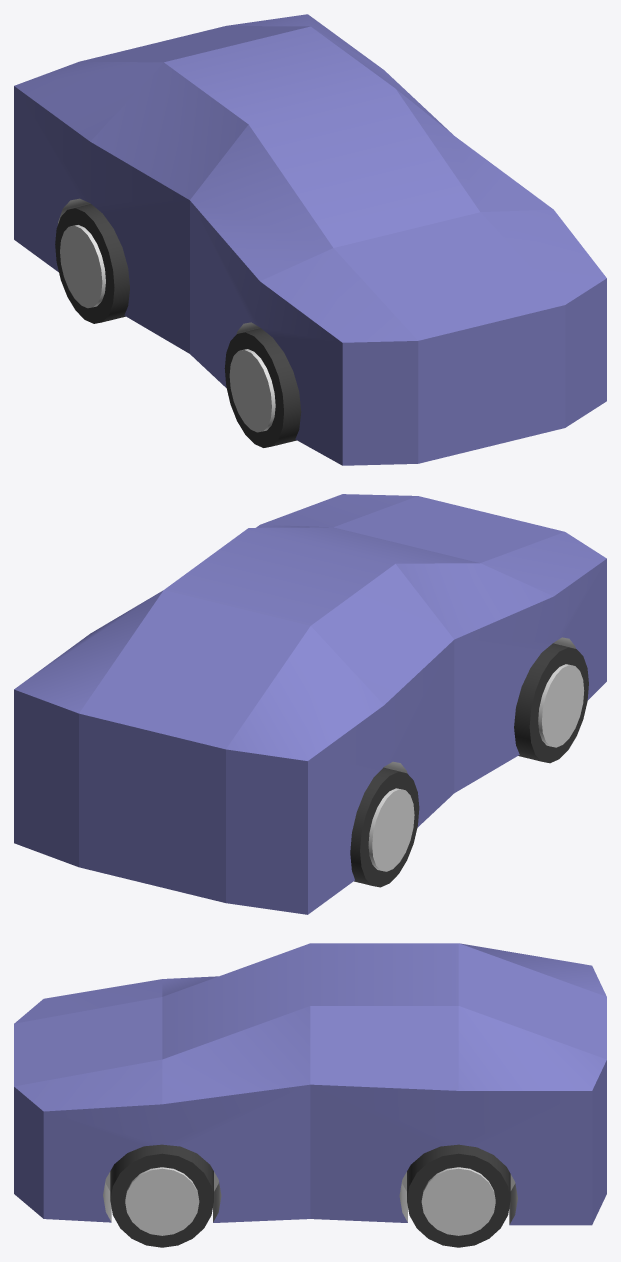
The model's file is CarBlue.fbx.
3 views of the same model, one above another, from view 1: azimuth 30°, elevation 25°; view 2: azimuth 150°, elevation 25°; view 3: azimuth 270°, elevation 25° (orthographic). The views are drawn at different scales.
Visible parts, largest first — view 1: pCylinder71; view 2: pCylinder71; view 3: pCylinder71.
Boxes of the visible parts, left/top/right/bottom form: pCylinder71: left=14, top=14, right=606, bottom=465; pCylinder71: left=14, top=494, right=606, bottom=914; pCylinder71: left=14, top=943, right=606, bottom=1247.
Size of the model in its own units: 2.12 by 1.55 by 4.
